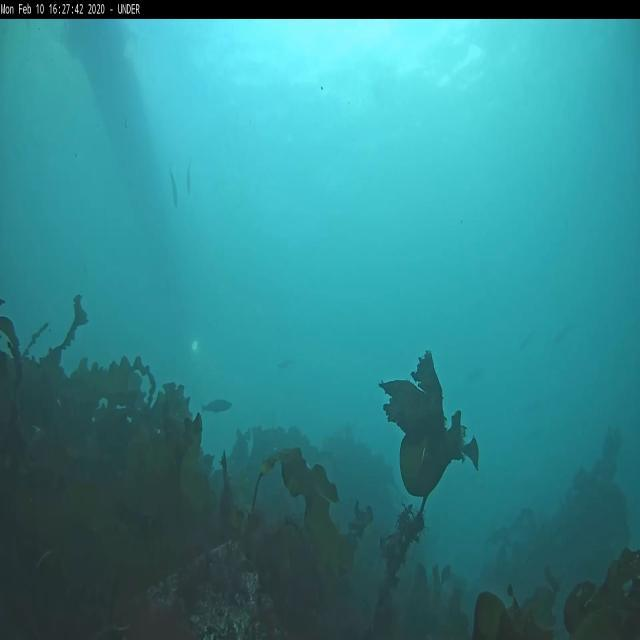fish: (202, 398, 232, 413), (168, 172, 178, 207), (186, 161, 192, 194)
